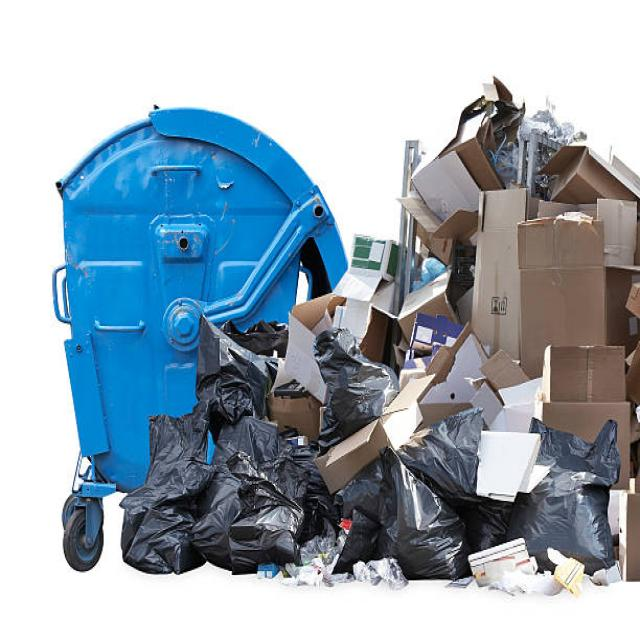cardboard: (436, 151, 632, 408)
metal: (57, 140, 319, 366)
trash: (163, 356, 425, 590)
